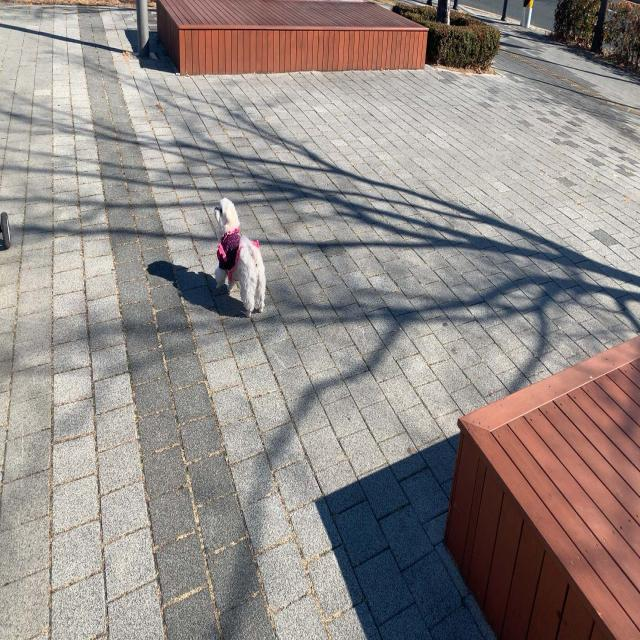Dog: (213, 196, 267, 318)
